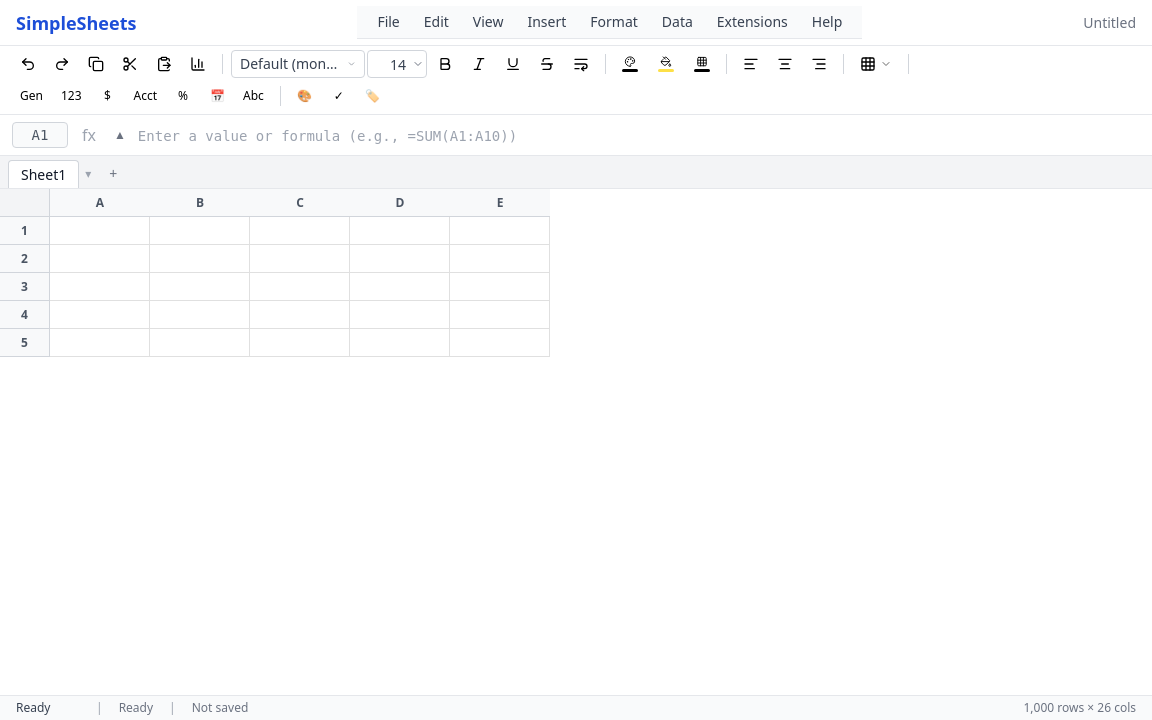
Test: App - Paste Formula into Range › pastes literal value into all cells of destination range
Press the mouse on the 1st element with class "grid-cell" at (100, 231), box [50, 217, 150, 245]
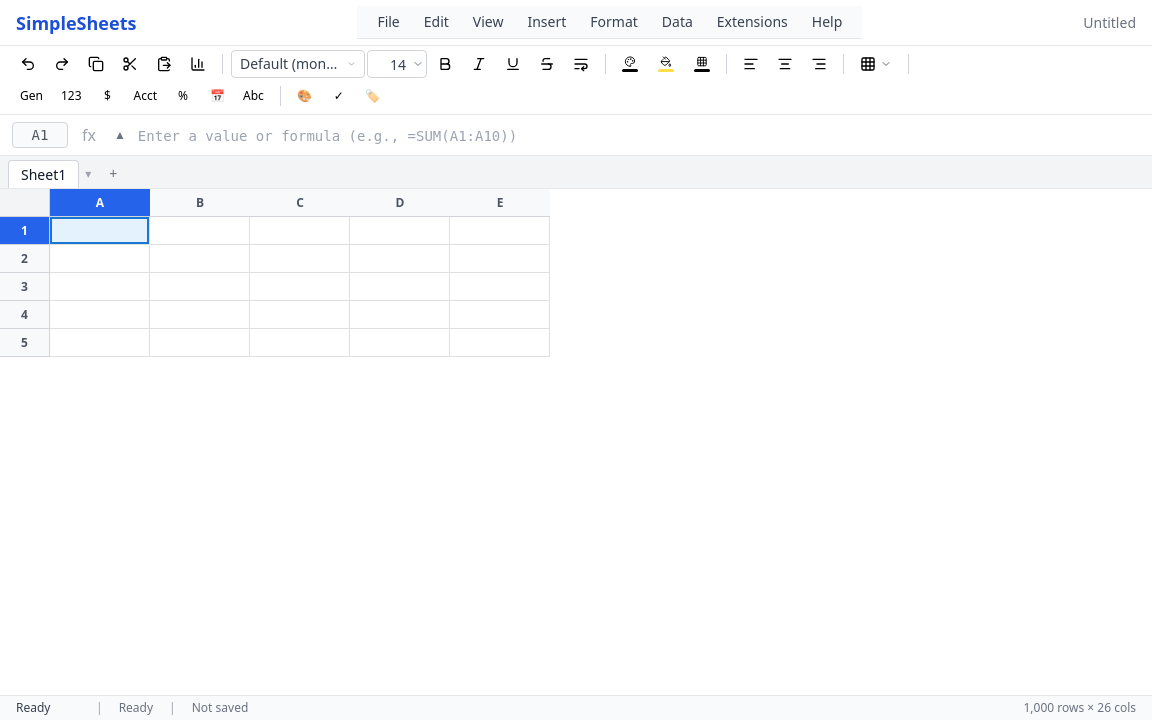
Type "Hello" into the field with placeholder "Enter a value or formula (e.g., =SUM(A1:A10))".
click(639, 136); type("Hello")  # box [138, 126, 1140, 146]
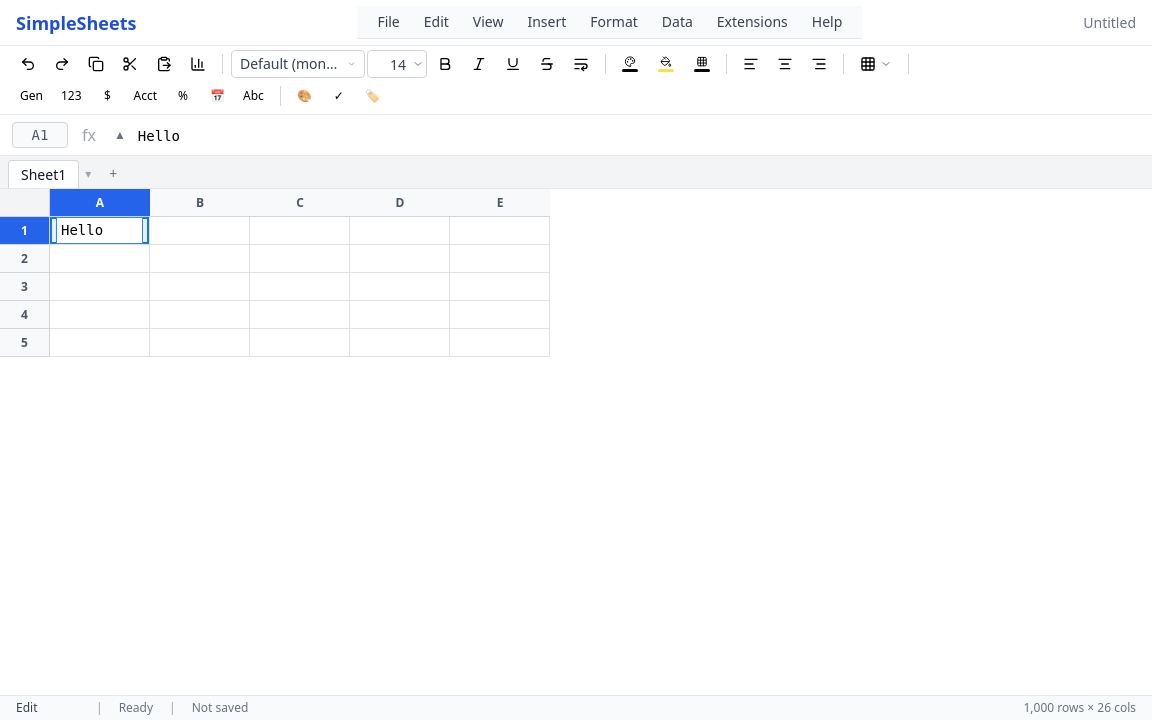
Press Enter in the 1st field with placeholder "Enter a value or formula (e.g., =SUM(A1:A10))", box [138, 126, 1140, 146]
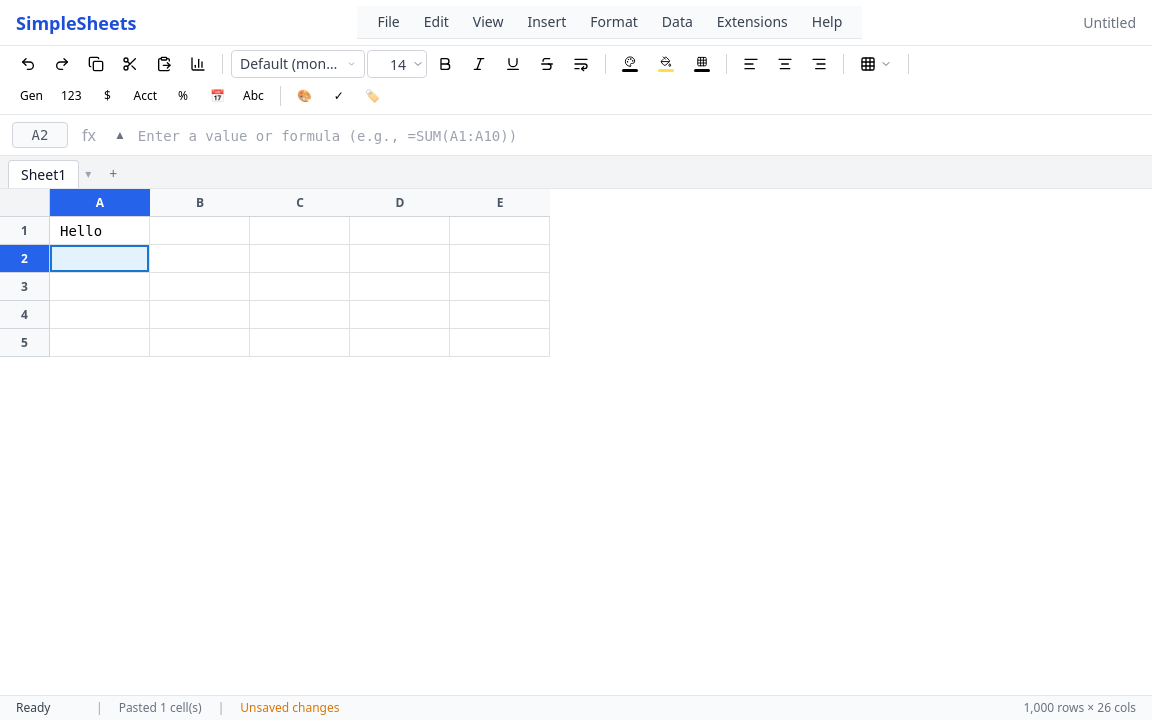
Now the text "Pasted 1 cell(s)" is shown, box [119, 700, 202, 716]
